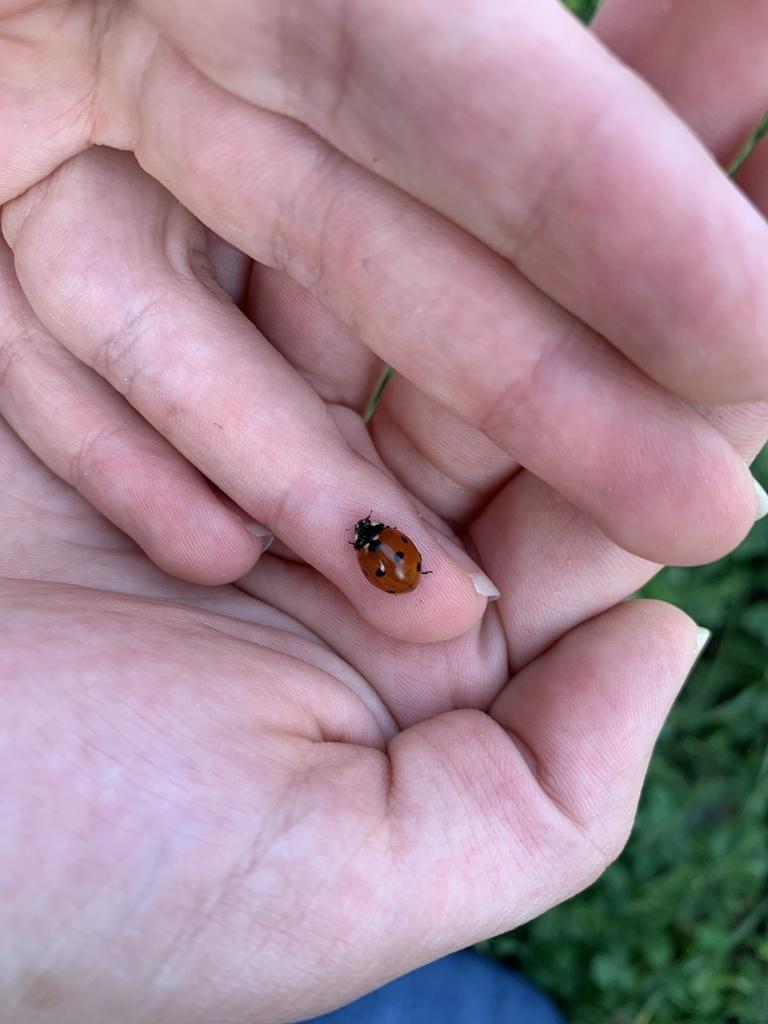ladybug: (346, 509, 436, 599)
